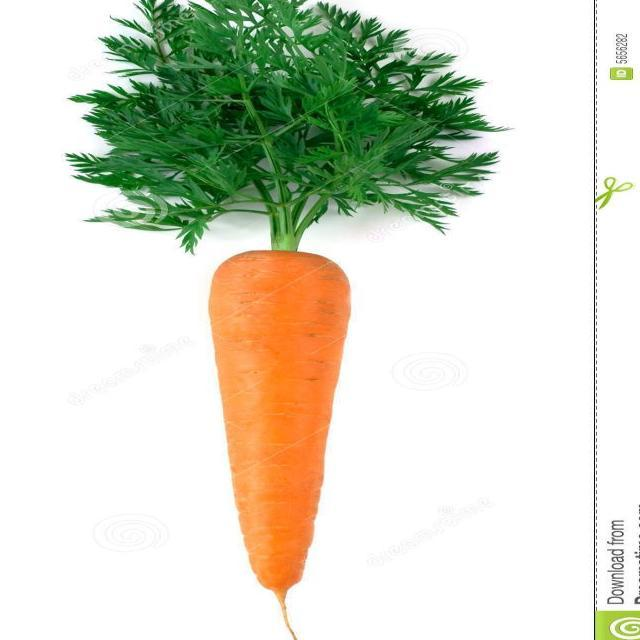carrot: (203, 245, 361, 595)
